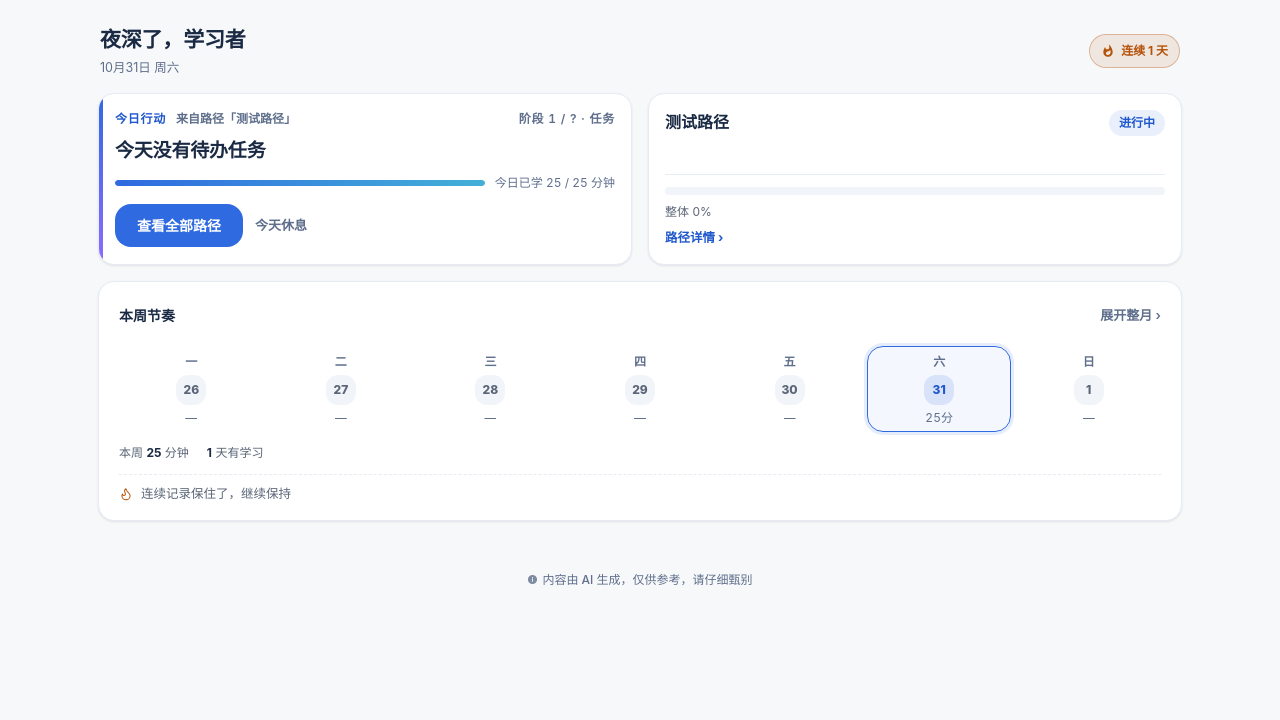
Scenario: V2Dashboard 日历口径（本地日期） › 周行按周一~周日（与本地当天对齐）；展开整月收成一行摘要
The image size is (1280, 720).
Check: the text with class "day__cell" reads "31", box [932,382,946,397]
Click the button "展开整月 ›" at {"x": 1131, "y": 316}, box [1100,298,1161,334]
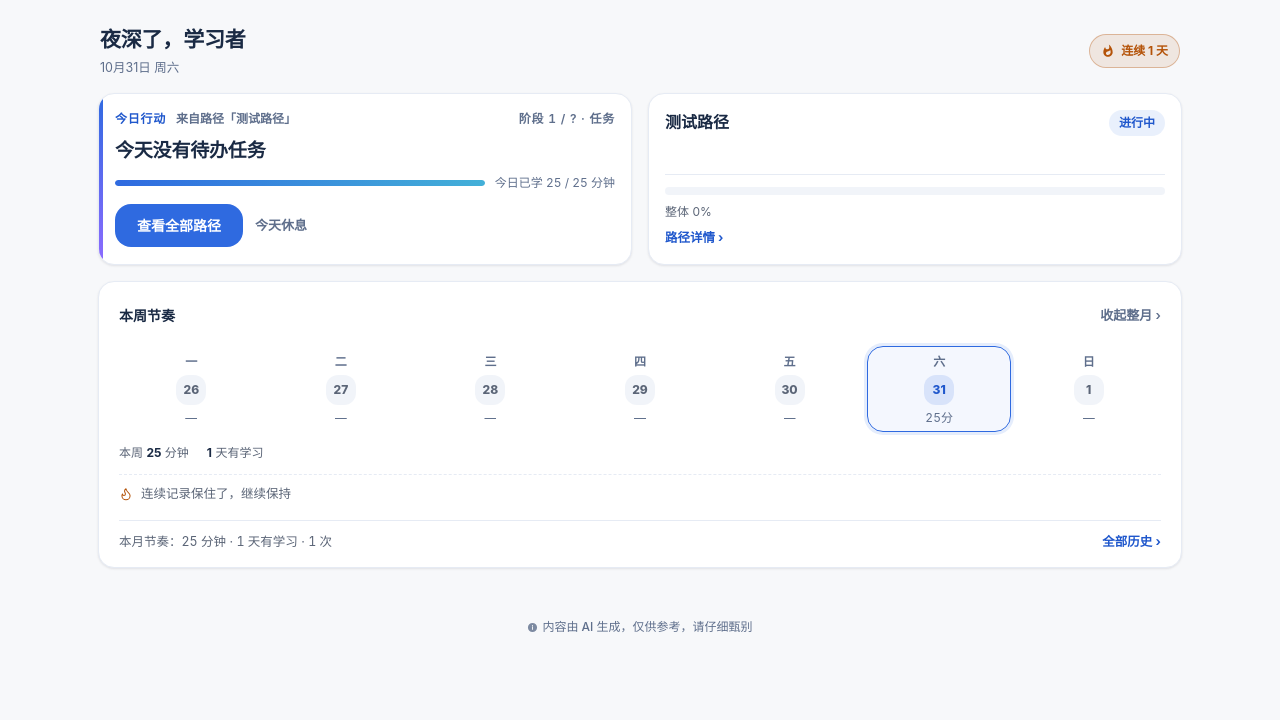
Check: the element with class "month-summary" is shown, box [119,520,1161,551]
Check: the element with class "month-summary" shows "25 分钟", box [119,534,332,549]
Check: the element with class "month-summary" shows "1 天有学习", box [119,534,332,549]
